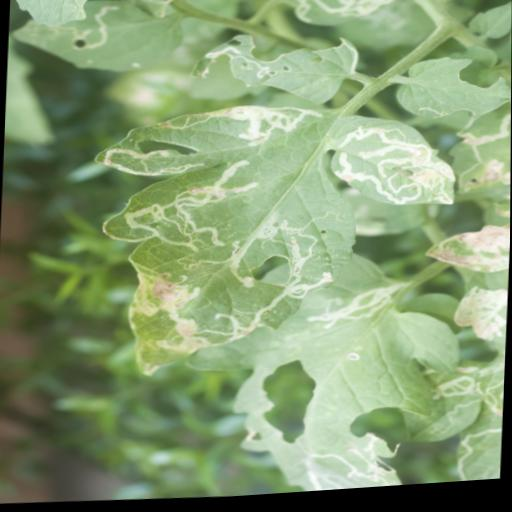Leaf_Miner: (80, 92, 461, 395), (11, 0, 186, 84), (284, 0, 399, 34)
